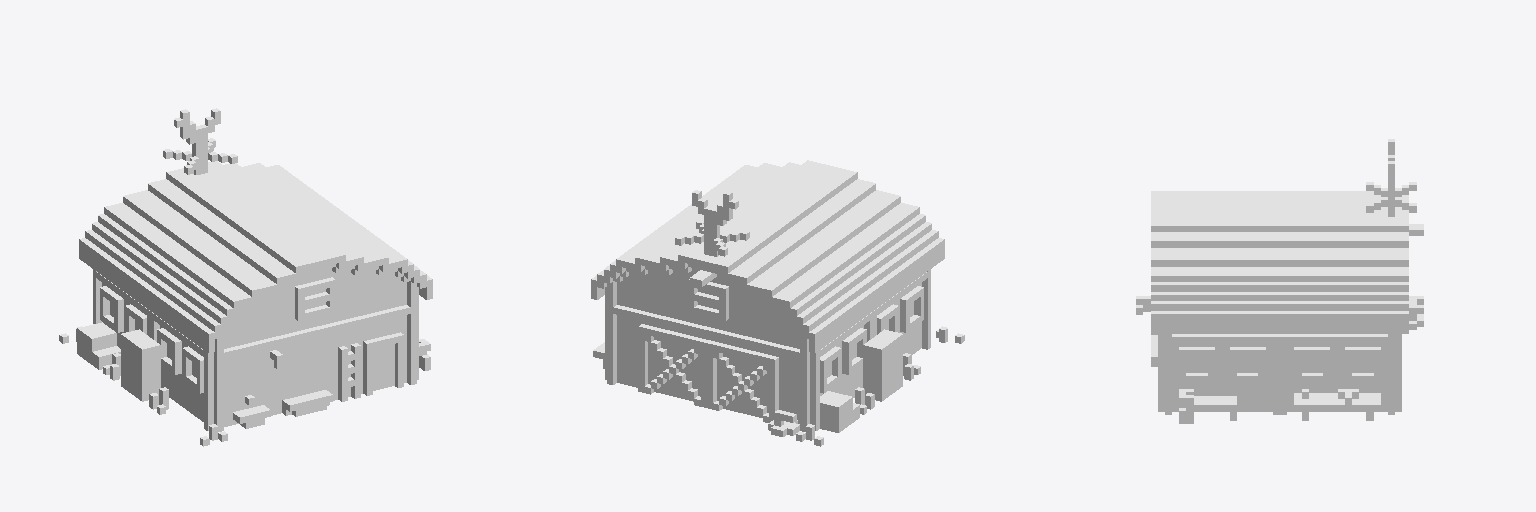
Rendered from CELEIRO.obj.
3 renders of one model, left to right at view 1: azimuth 30°, elevation 25°; view 2: azimuth 150°, elevation 25°; view 3: azimuth 270°, elevation 25°, orthographic.
Parts seen in each view (by area): view 1: object 1; view 2: object 1; view 3: object 1.
Part boxes in pixels (bbox=[...]): object 1: bbox=[59, 108, 432, 446]; object 1: bbox=[591, 160, 964, 446]; object 1: bbox=[1136, 139, 1423, 423].
Size of the model in its own units: 4 by 3.3 by 4.